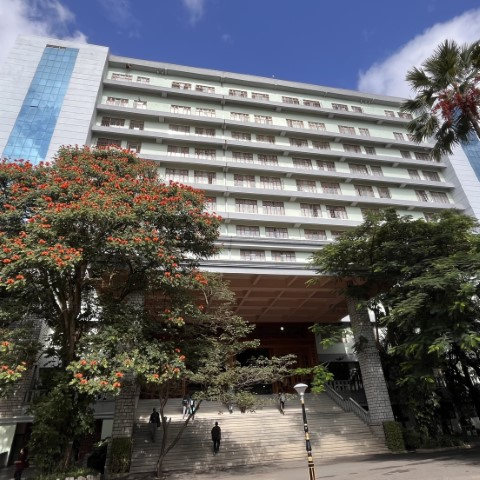Central Block: (15, 24, 480, 480)
